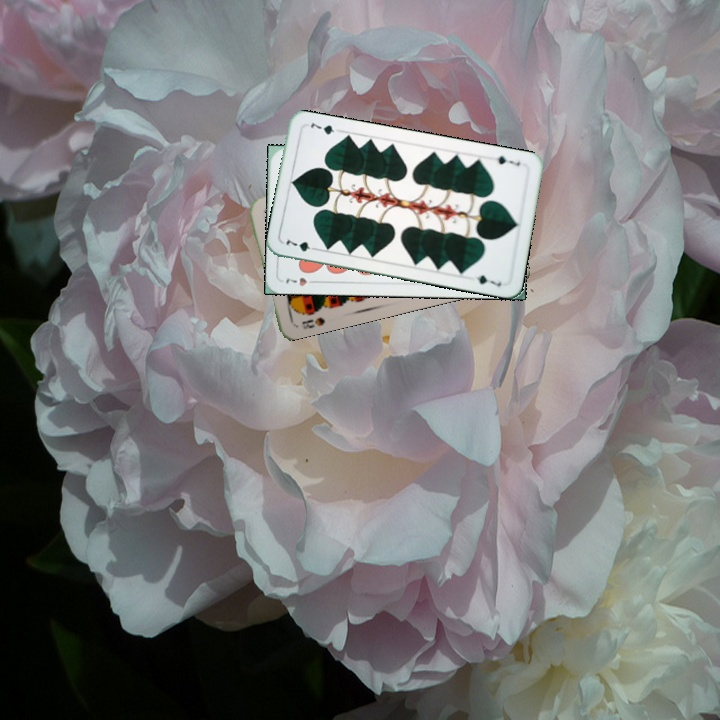G7: (282, 236, 321, 254), (488, 152, 523, 168)
H7: (281, 273, 320, 288)
S8: (298, 313, 328, 332)
